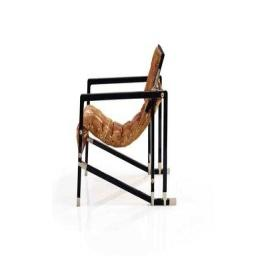Chair: (76, 45, 171, 210)
